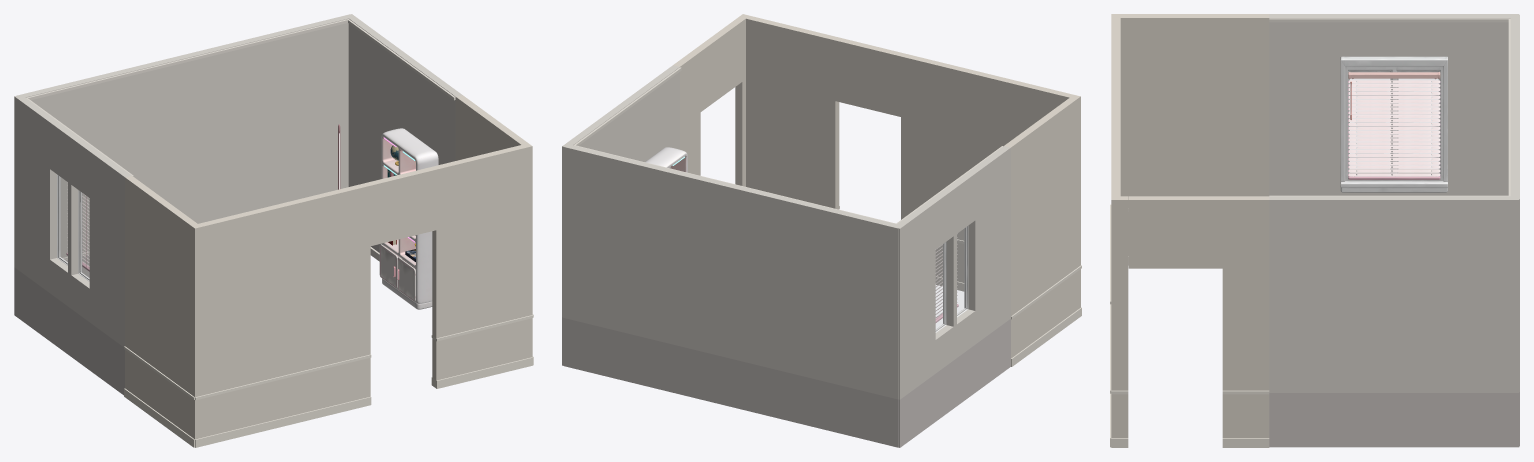
3 renders of one model, left to right at view 1: azimuth 30°, elevation 25°; view 2: azimuth 150°, elevation 25°; view 3: azimuth 270°, elevation 25°, orthographic. The views are drawn at different scales.
Visible parts, largest first — view 1: architecture.backWall.v6.upper, architecture.southWall.west.upper, architecture.leftWall.v6.upper, architecture.southWall.east.upper, architecture.leftWall.extension.upper, architecture.rightWall.v6.upper, architecture.southWall.west.lower, architecture.leftWall.v6.lower, architecture.southWall.lintel, architecture.southWall.east.lower, bookshelf.carcass, architecture.leftWall.extension.lower (+14 smaller); view 2: architecture.backWall.v6.upper, architecture.leftWall.v6.upper, architecture.backWall.v6.lower, architecture.southWall.east.upper, architecture.southWall.west.upper, architecture.leftWall.extension.upper, architecture.rightWall.v6.upper, architecture.leftWall.v6.lower, architecture.southWall.lintel, architecture.rightWall.doorLintel, architecture.leftWall.extension.lower, architecture.rightWall.extension.upper (+8 smaller); view 3: architecture.rightWall.v6.upper, architecture.leftWall.v6.upper, architecture.leftWall.extension.upper, architecture.rightWall.v6.lower, architecture.rightWall.extension.upper, architecture.rightWall.doorLintel, window.frame, architecture.rightWall.southPost.upper, architecture.rightWall.extension.lower, architecture.backWall.v6.upper, architecture.southWall.east.upper, architecture.leftWall.v6.topTrim (+9 smaller).
Boxes of the visible parts, bbox=[...] form: architecture.backWall.v6.upper: bbox=[16, 14, 353, 257]; architecture.southWall.west.upper: bbox=[191, 182, 370, 396]; architecture.leftWall.v6.upper: bbox=[14, 94, 131, 346]; architecture.southWall.east.upper: bbox=[432, 143, 532, 338]; architecture.leftWall.extension.upper: bbox=[125, 176, 201, 397]; architecture.rightWall.v6.upper: bbox=[348, 14, 461, 186]; architecture.southWall.west.lower: bbox=[191, 357, 370, 438]; architecture.leftWall.v6.lower: bbox=[14, 267, 124, 395]; architecture.southWall.lintel: bbox=[367, 167, 436, 245]; architecture.southWall.east.lower: bbox=[432, 318, 531, 380]; bookshelf.carcass: bbox=[381, 128, 438, 309]; architecture.leftWall.extension.lower: bbox=[125, 350, 201, 439]; architecture.backWall.v6.upper: bbox=[563, 144, 901, 399]; architecture.leftWall.v6.upper: bbox=[894, 146, 1010, 399]; architecture.backWall.v6.lower: bbox=[563, 318, 898, 447]; architecture.southWall.east.upper: bbox=[740, 14, 839, 209]; architecture.southWall.west.upper: bbox=[901, 53, 1080, 267]; architecture.leftWall.extension.upper: bbox=[1004, 97, 1076, 316]; architecture.rightWall.v6.upper: bbox=[562, 65, 679, 317]; architecture.leftWall.v6.lower: bbox=[898, 319, 1010, 447]; architecture.southWall.lintel: bbox=[835, 37, 904, 116]; architecture.rightWall.doorLintel: bbox=[694, 19, 742, 111]; architecture.leftWall.extension.lower: bbox=[1011, 272, 1076, 358]; architecture.rightWall.extension.upper: bbox=[673, 50, 700, 175]; architecture.rightWall.v6.upper: bbox=[1269, 196, 1519, 392]; architecture.leftWall.v6.upper: bbox=[1269, 14, 1519, 195]; architecture.leftWall.extension.upper: bbox=[1111, 14, 1269, 208]; architecture.rightWall.v6.lower: bbox=[1269, 393, 1519, 447]; architecture.rightWall.extension.upper: bbox=[1222, 196, 1269, 390]; architecture.rightWall.doorLintel: bbox=[1128, 196, 1222, 268]; window.frame: bbox=[1340, 56, 1447, 192]; architecture.rightWall.southPost.upper: bbox=[1111, 196, 1128, 390]; architecture.rightWall.extension.lower: bbox=[1222, 394, 1269, 438]; architecture.backWall.v6.upper: bbox=[1510, 15, 1519, 391]; architecture.southWall.east.upper: bbox=[1111, 147, 1120, 390]; architecture.leftWall.v6.topTrim: bbox=[1269, 18, 1508, 22].
Bounding box in the file's own units: 4.87 × 3 × 4.5.
Materials: 86 (34 with a texture image).
